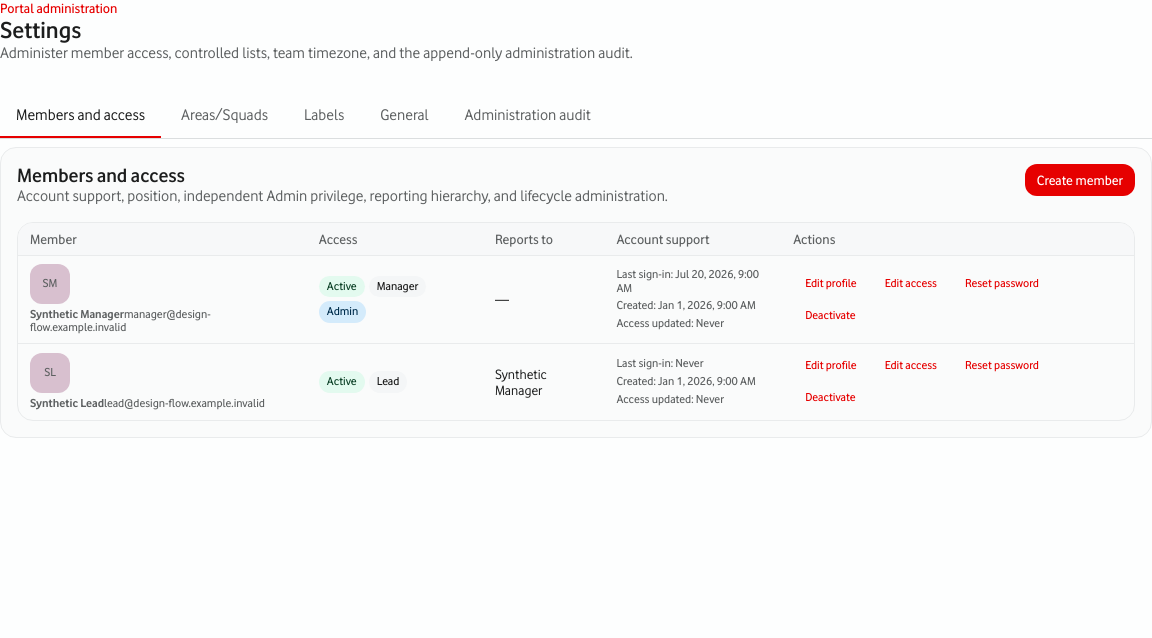
Test: SettingsRoute › retries account creation with the same operation ID and displays credentials once
Click the button "Create member" at (1080, 180), box [1025, 164, 1135, 196]
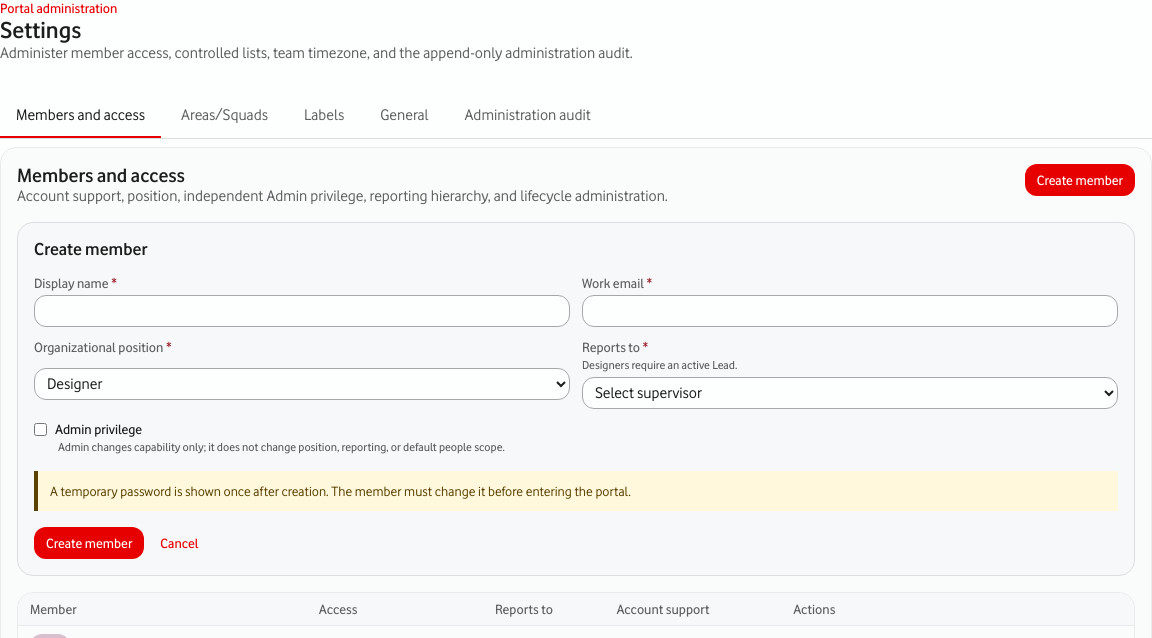
Type "New Designer" into the field labelled "Display name *" at (302, 311), box [34, 295, 570, 327]
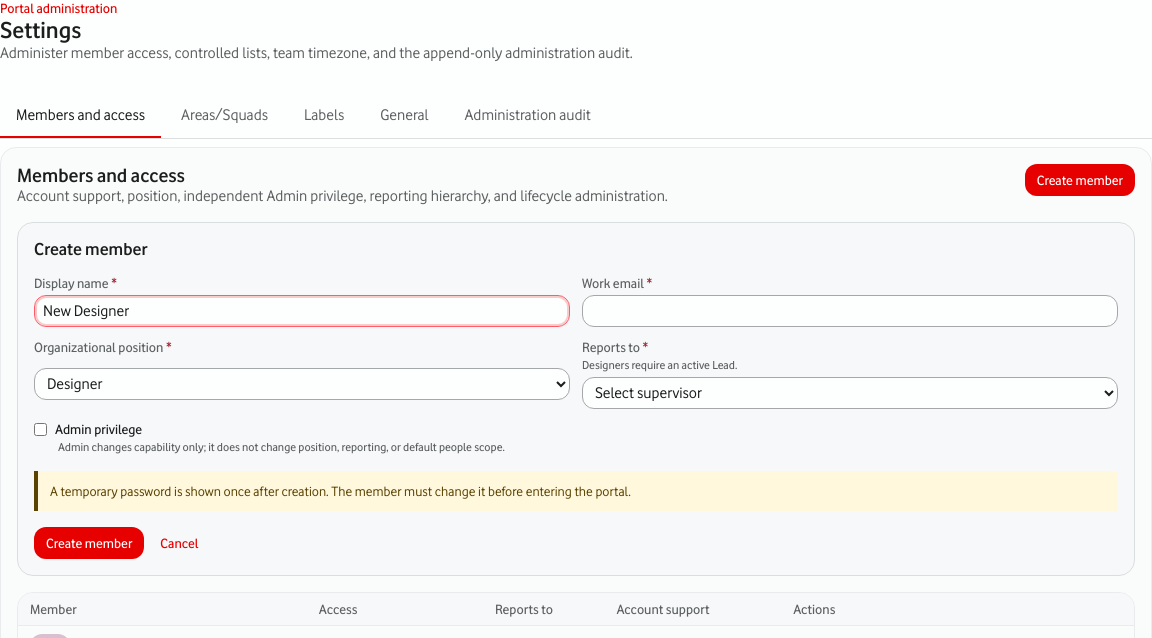
Type "new-designer@design-flow.example.invalid" into the field labelled "Work email *" at (850, 311), box [582, 295, 1118, 327]
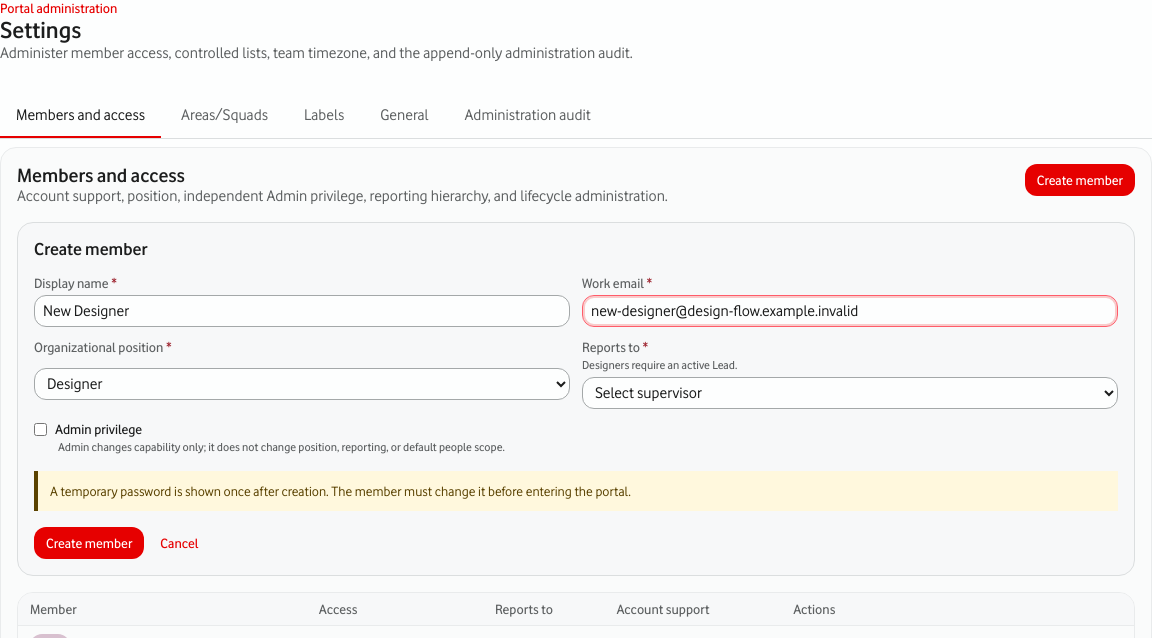
Select "Synthetic Lead" in the dropdown labelled "Reports to *" at (850, 393), box [582, 377, 1118, 409]
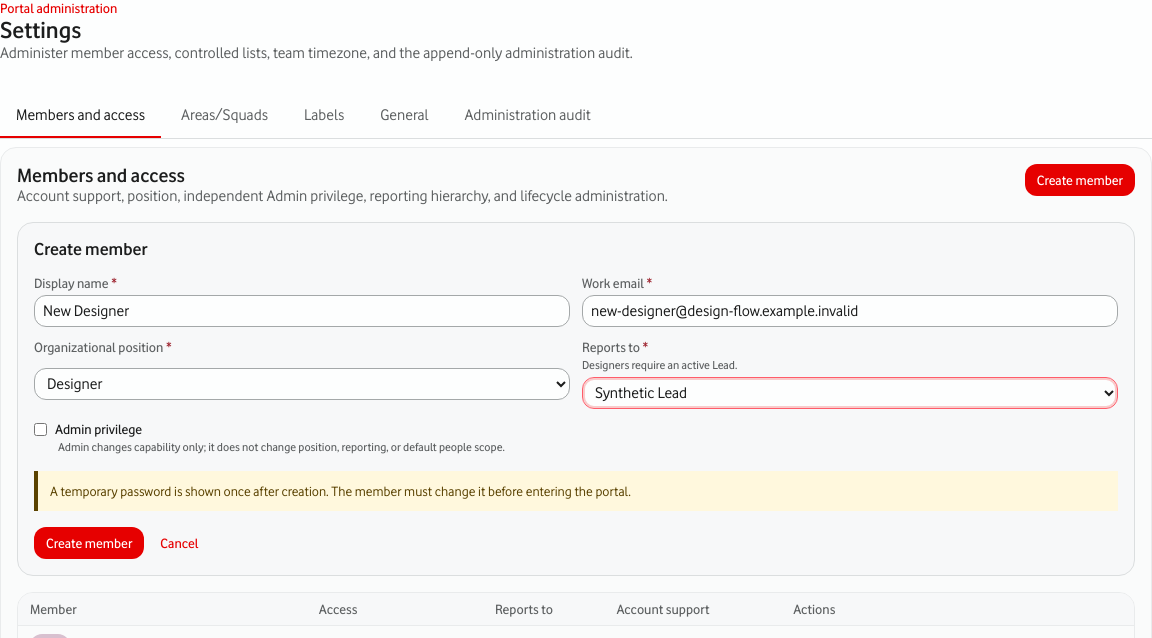
Now the button "Create member" below "Organizational position" is shown
Click the button "Create member" below "Organizational position" at (89, 543), box [34, 527, 144, 559]
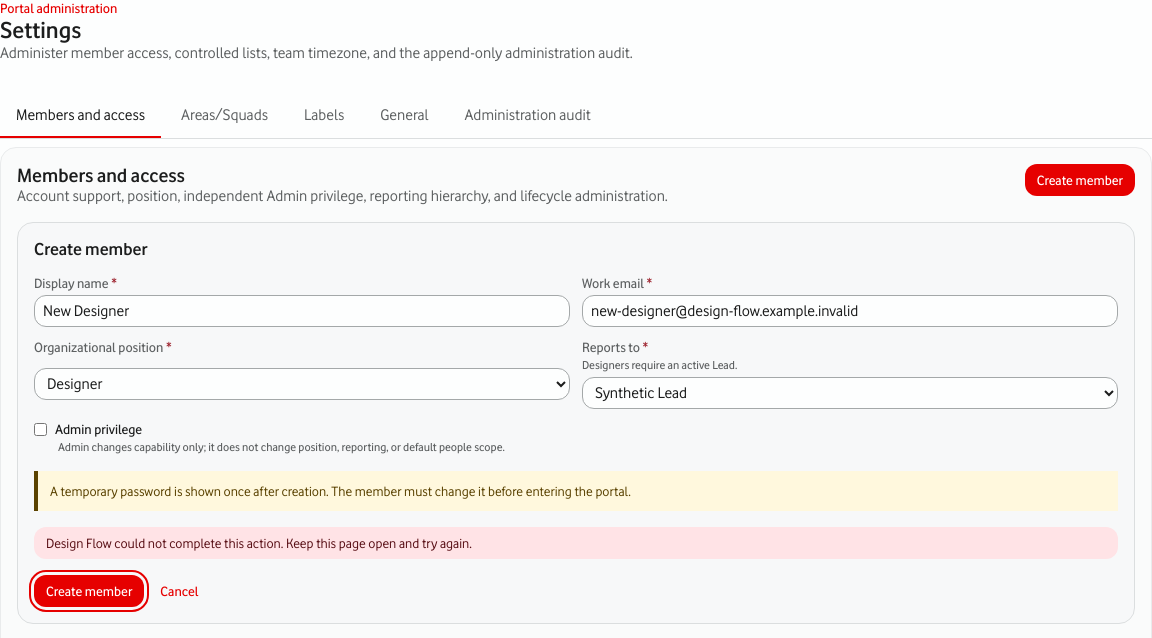
Now the text "Design Flow could not complete this action. Keep this page open and try again." is shown, box [34, 527, 1118, 559]
Click the button "Create member" below "Organizational position" at (89, 591), box [34, 575, 144, 607]
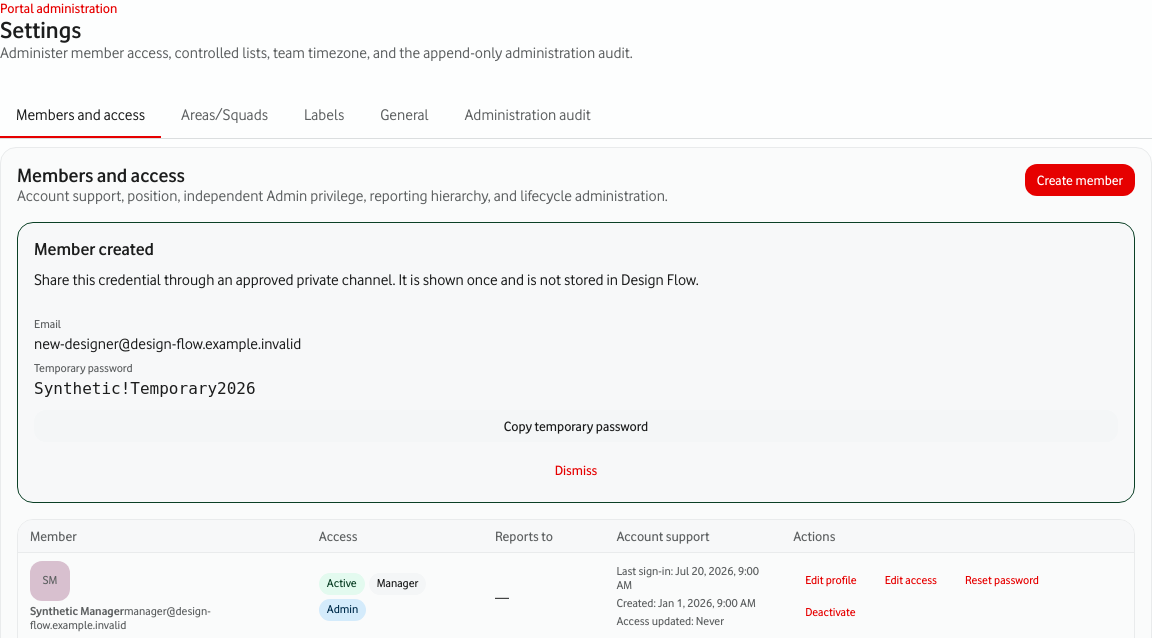
Now the text "Synthetic!Temporary2026" is shown, box [34, 379, 256, 398]
